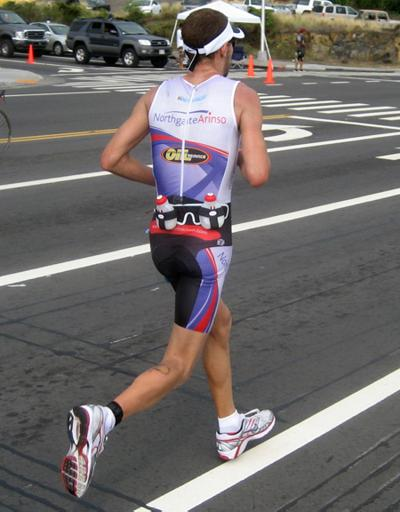person: (61, 9, 278, 503)
